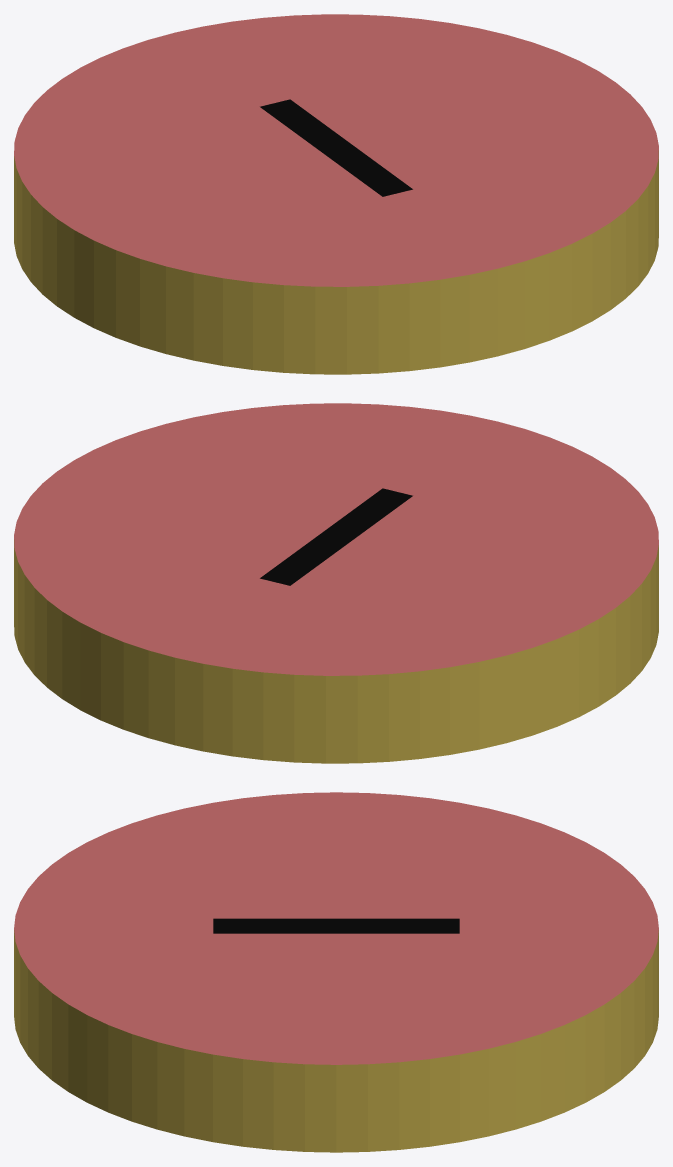
3 renders of one model, top to bottom at view 1: azimuth 30°, elevation 25°; view 2: azimuth 150°, elevation 25°; view 3: azimuth 270°, elevation 25°, orthographic.
Parts seen in each view (by area): view 1: d2, d2_num; view 2: d2, d2_num; view 3: d2, d2_num.
Boxes of the visible parts, x1,y1,x2,y2 form: d2: [14, 14, 658, 374]; d2_num: [260, 99, 412, 196]; d2: [14, 403, 658, 763]; d2_num: [260, 488, 412, 585]; d2: [14, 792, 658, 1152]; d2_num: [213, 918, 459, 933].
Size of the model in its own units: 3.38 by 0.536 by 3.38.
